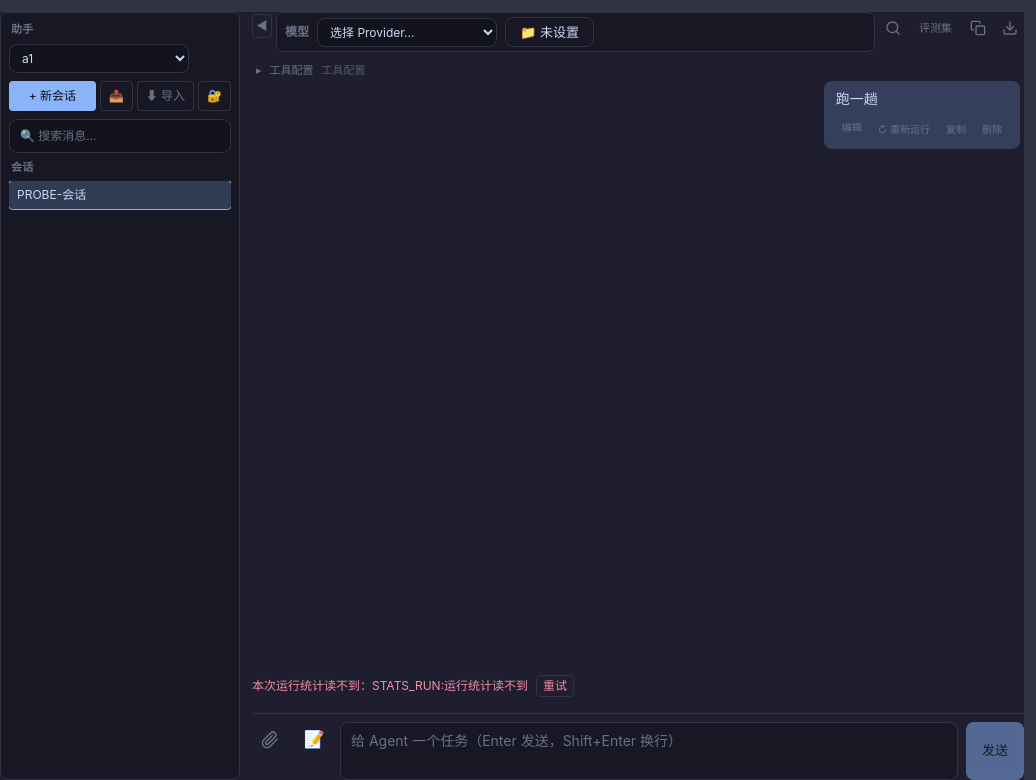
Test: ② Agent 页那两发统计：那块不出现时，句子顶上去（并给一次重试） › 点「重试」读到 ⇒ 那句退场、那块统计回来
Click the button with test id "run-stats-retry" at (555, 686), box 536,675 -> 574,697
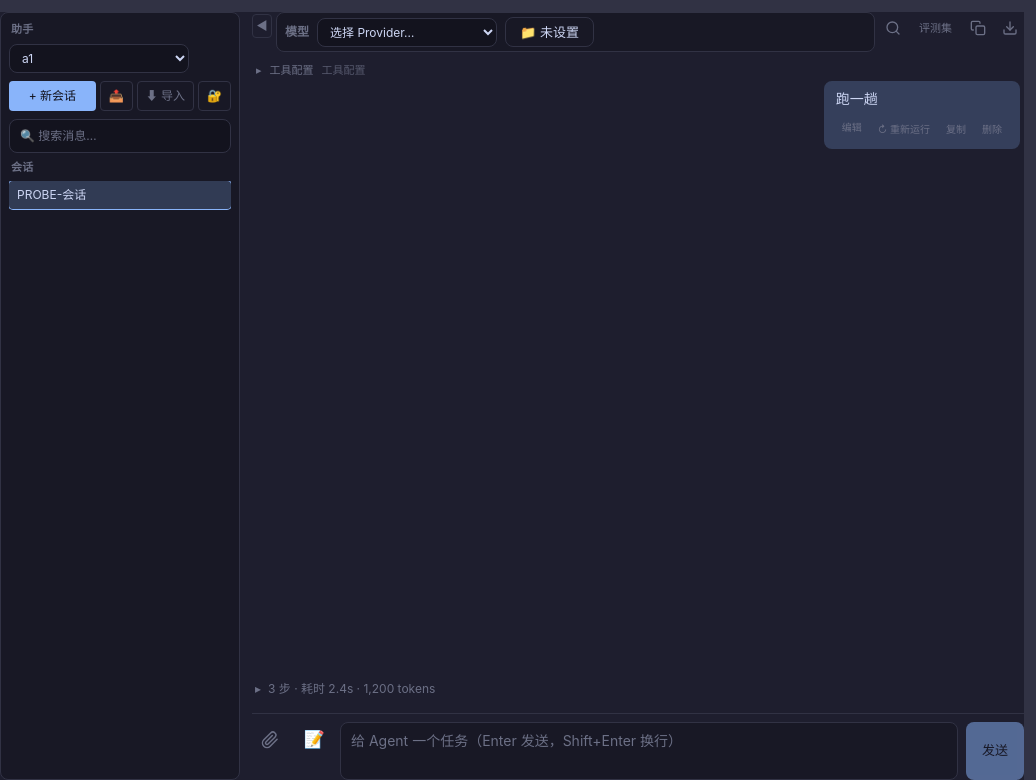
Expected: the button titled "查看本次运行分步明细" is shown, 252,681 -> 435,697
